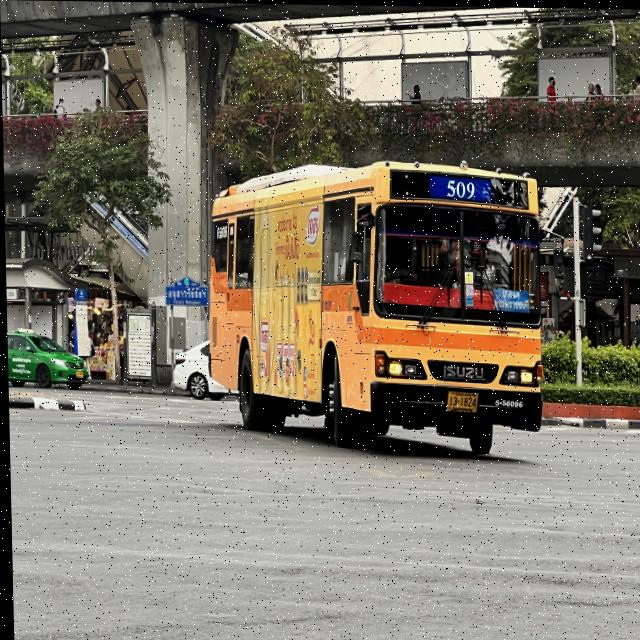BMTA-bus: (204, 158, 549, 457)
Bus-Line-Number: (440, 176, 479, 200)
Destination-Sign-Normal: (493, 287, 528, 310)
